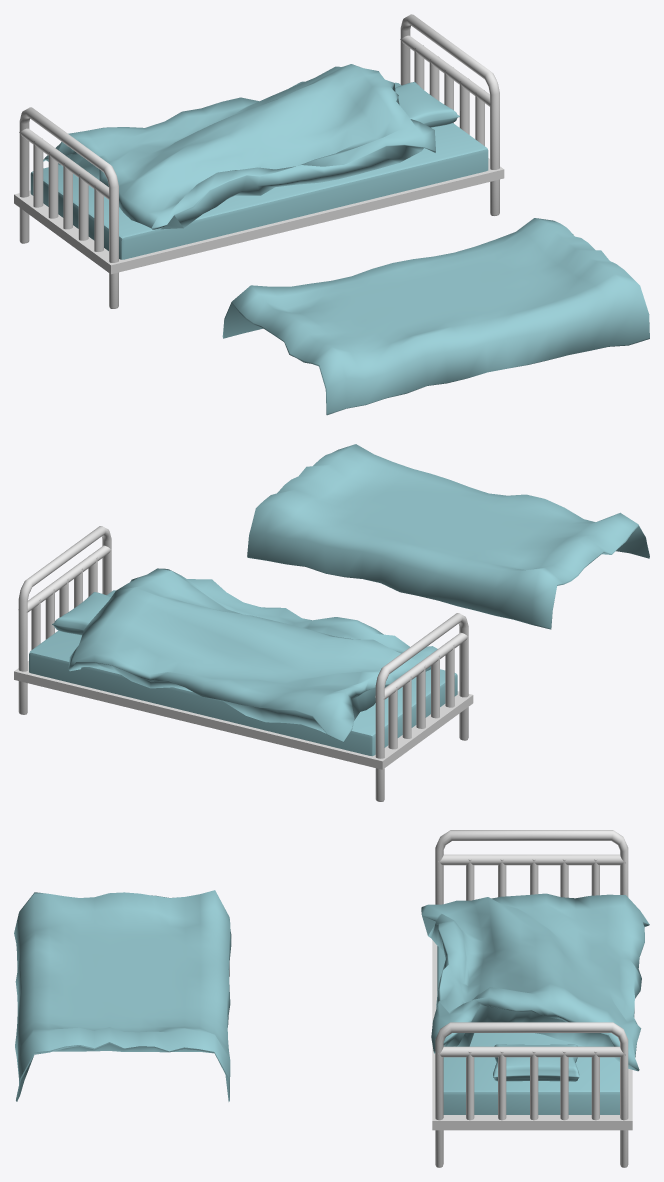
Rendered from HS_I_Bed1_Model_V1.FBX.
3 renders of one model, top to bottom at view 1: azimuth 30°, elevation 25°; view 2: azimuth 150°, elevation 25°; view 3: azimuth 270°, elevation 25°, orthographic. The views are drawn at different scales.
Visible parts, largest first — view 1: Plane011, Plane010, Box065, Box066, Box067; view 2: Plane011, Plane010, Box065, Box066, Box067; view 3: Plane011, Plane010, Box065, Box066, Box067.
Part boxes in pixels (x1=…): Plane011: x1=222, y1=218, x2=649, y2=415; Plane010: x1=43, y1=64, x2=435, y2=229; Box065: x1=14, y1=14, x2=504, y2=308; Box066: x1=30, y1=82, x2=488, y2=259; Box067: x1=395, y1=82, x2=459, y2=127; Plane011: x1=247, y1=444, x2=649, y2=629; Plane010: x1=68, y1=568, x2=437, y2=742; Box065: x1=14, y1=526, x2=473, y2=801; Box066: x1=29, y1=590, x2=457, y2=756; Box067: x1=52, y1=592, x2=111, y2=635; Plane011: x1=14, y1=890, x2=231, y2=1101; Plane010: x1=421, y1=893, x2=649, y2=1071; Box065: x1=432, y1=830, x2=632, y2=1167; Box066: x1=437, y1=946, x2=619, y2=1114; Box067: x1=493, y1=1044, x2=579, y2=1081.
Size of the model in its own units: 218 by 73.4 by 296.
